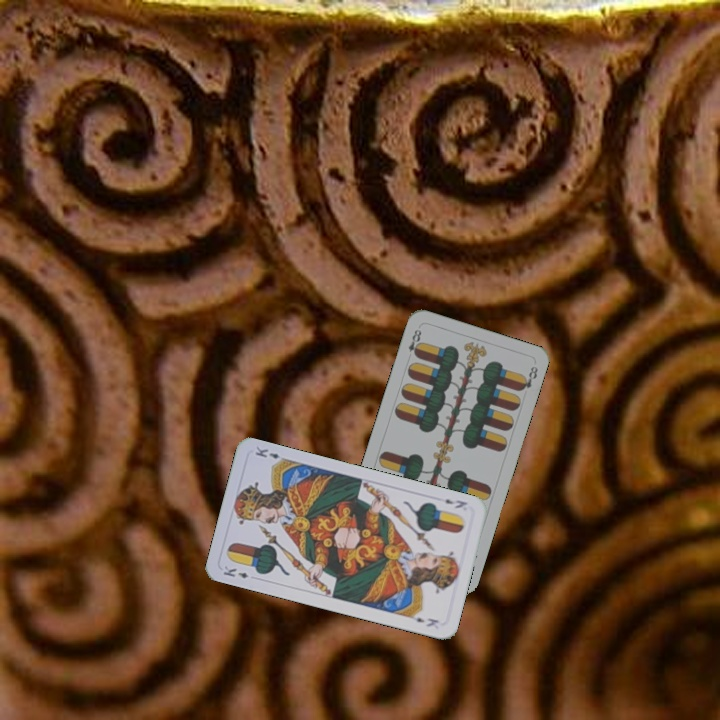E8: (404, 325, 424, 359)
EK: (219, 562, 251, 581), (441, 495, 470, 511)
